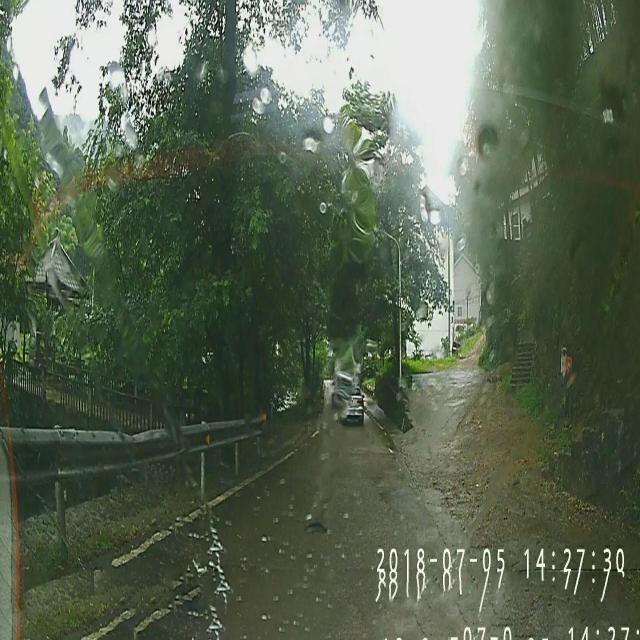car: (336, 384, 364, 424)
